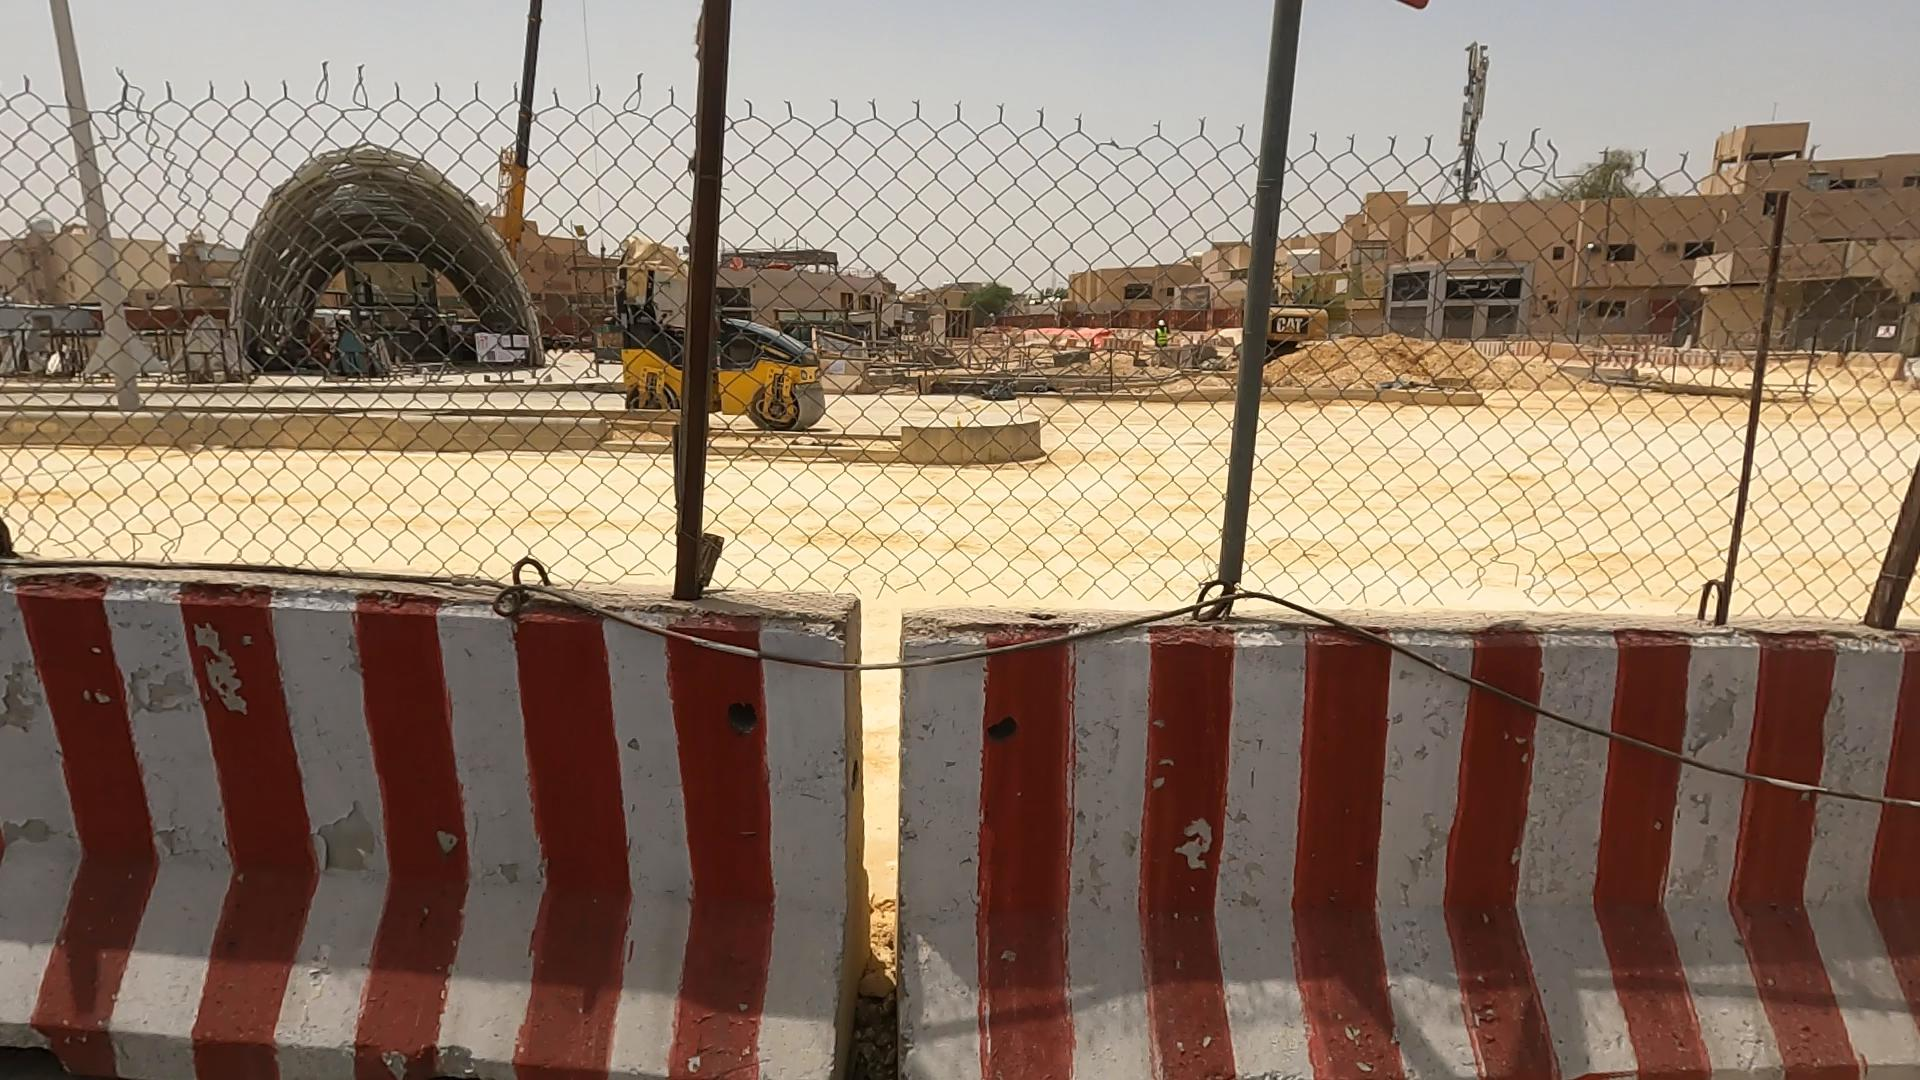CONSTRUCTION_ROAD: (115, 90, 1846, 1080)
